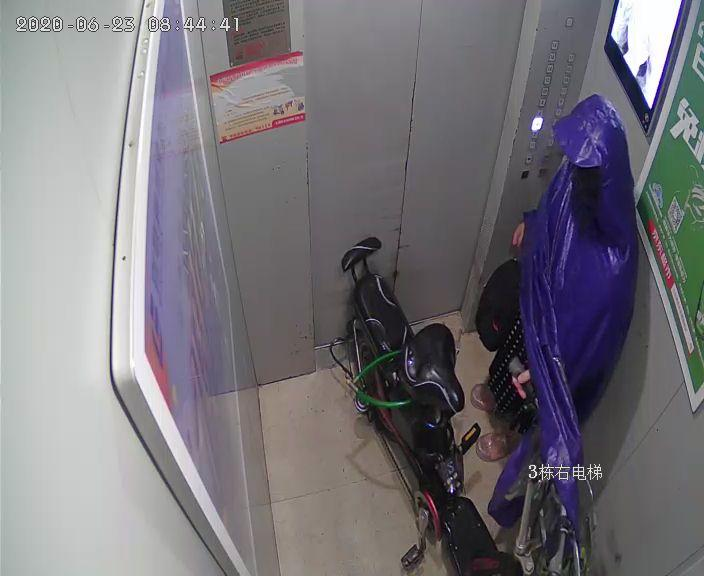Electric-bicycle: (334, 240, 594, 571)
